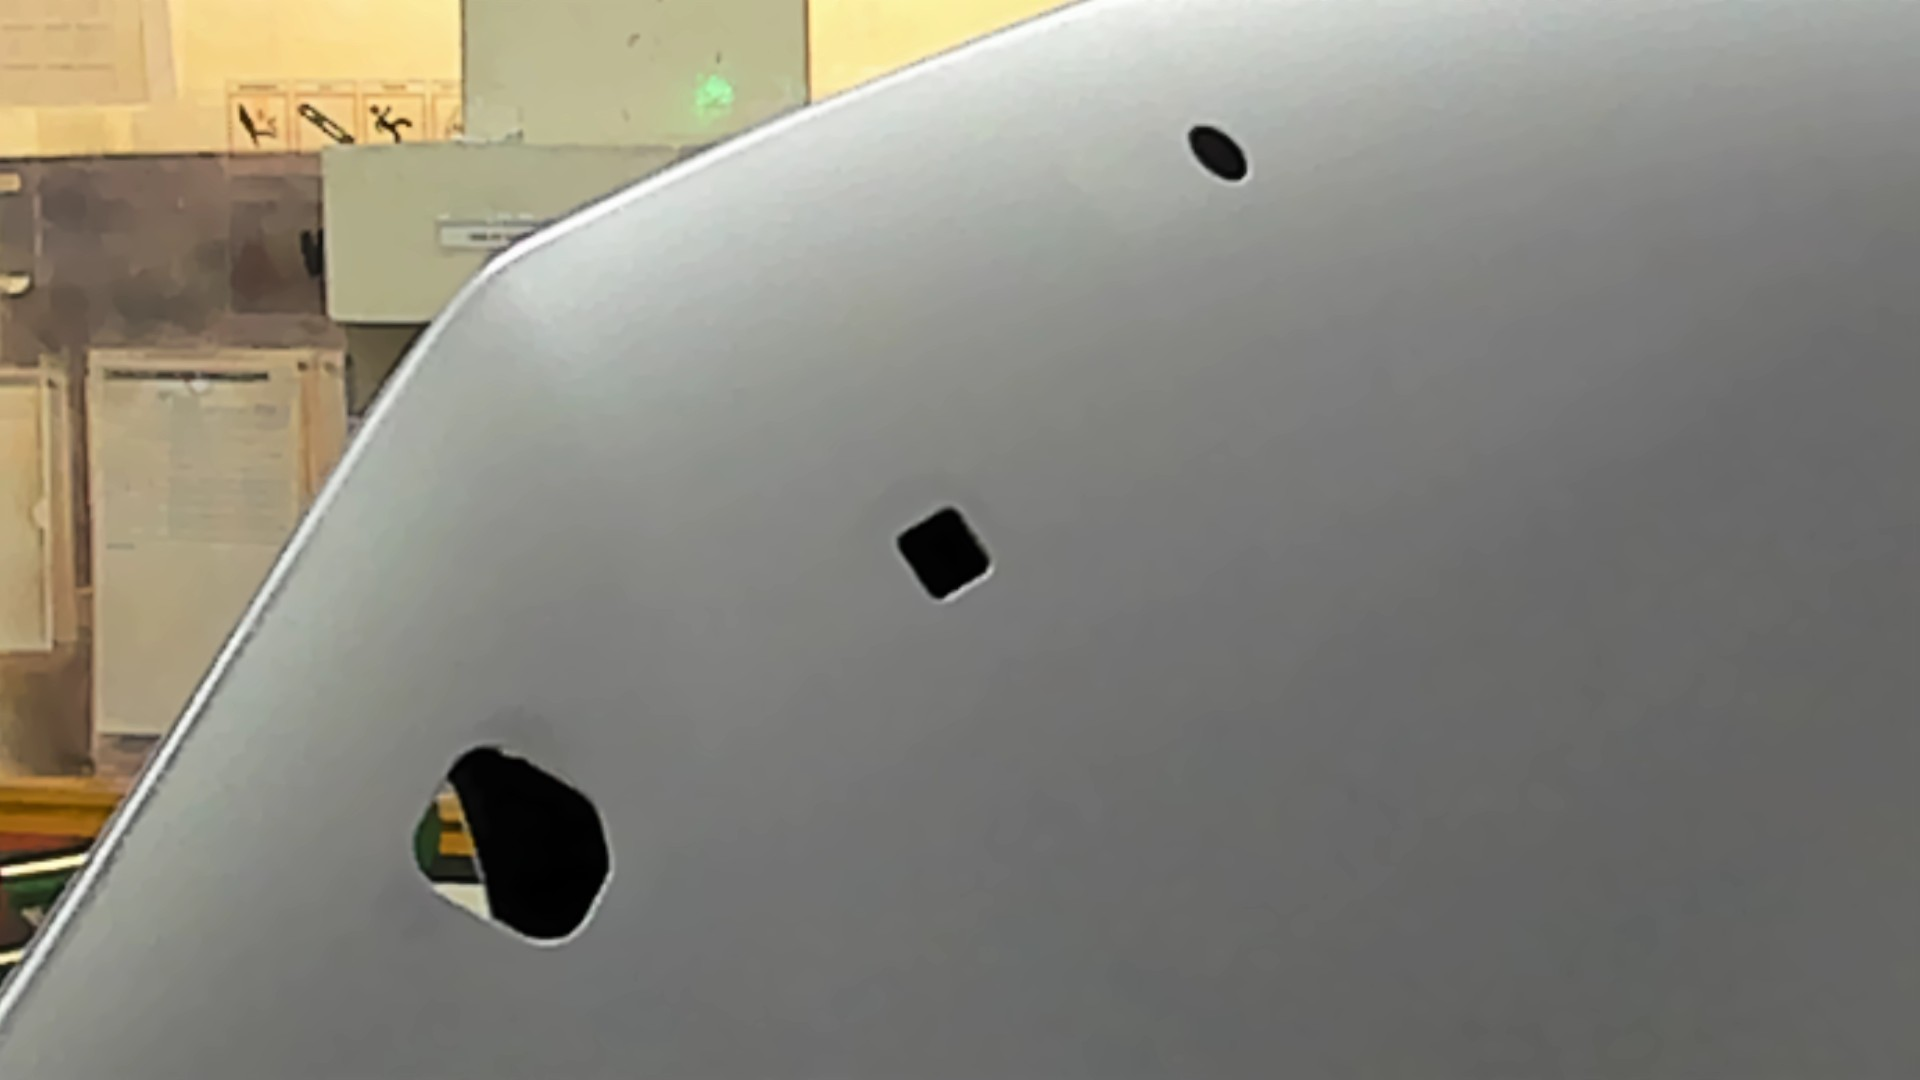chico: (1174, 105, 1269, 194)
grande: (382, 733, 630, 968)
mediano: (880, 487, 1010, 615)
